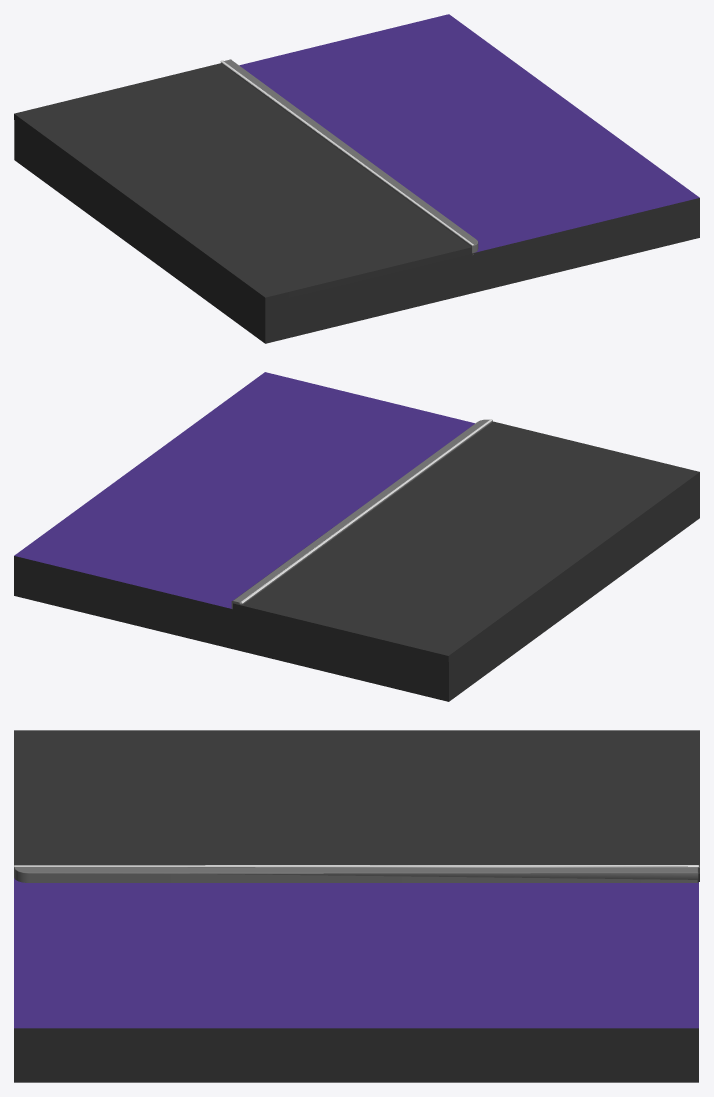
Rendered from curb_2_dip_middle.fbx.
3 renders of one model, top to bottom at view 1: azimuth 30°, elevation 25°; view 2: azimuth 150°, elevation 25°; view 3: azimuth 270°, elevation 25°, orthographic. The views are drawn at different scales.
Visible parts, largest first — view 1: Ground 2 - Dip Middle, Ground Riser.007, Curb.009, Curb Light.007; view 2: Ground 2 - Dip Middle, Ground Riser.007, Curb.009, Curb Light.007; view 3: Ground 2 - Dip Middle, Ground Riser.007, Curb.009, Curb Light.007.
Boxes of the visible parts, <box> form: Ground 2 - Dip Middle: <box>14,14,699,343</box>; Ground Riser.007: <box>14,63,471,303</box>; Curb.009: <box>220,59,478,254</box>; Curb Light.007: <box>220,60,473,245</box>; Ground 2 - Dip Middle: <box>14,372,699,701</box>; Ground Riser.007: <box>233,421,699,661</box>; Curb.009: <box>231,419,492,608</box>; Curb Light.007: <box>239,419,492,604</box>; Ground 2 - Dip Middle: <box>14,878,698,1082</box>; Ground Riser.007: <box>14,730,699,881</box>; Curb.009: <box>14,867,698,882</box>; Curb Light.007: <box>14,865,699,867</box>.
Bounding box in the file's own units: 800 × 86.12 × 801.
